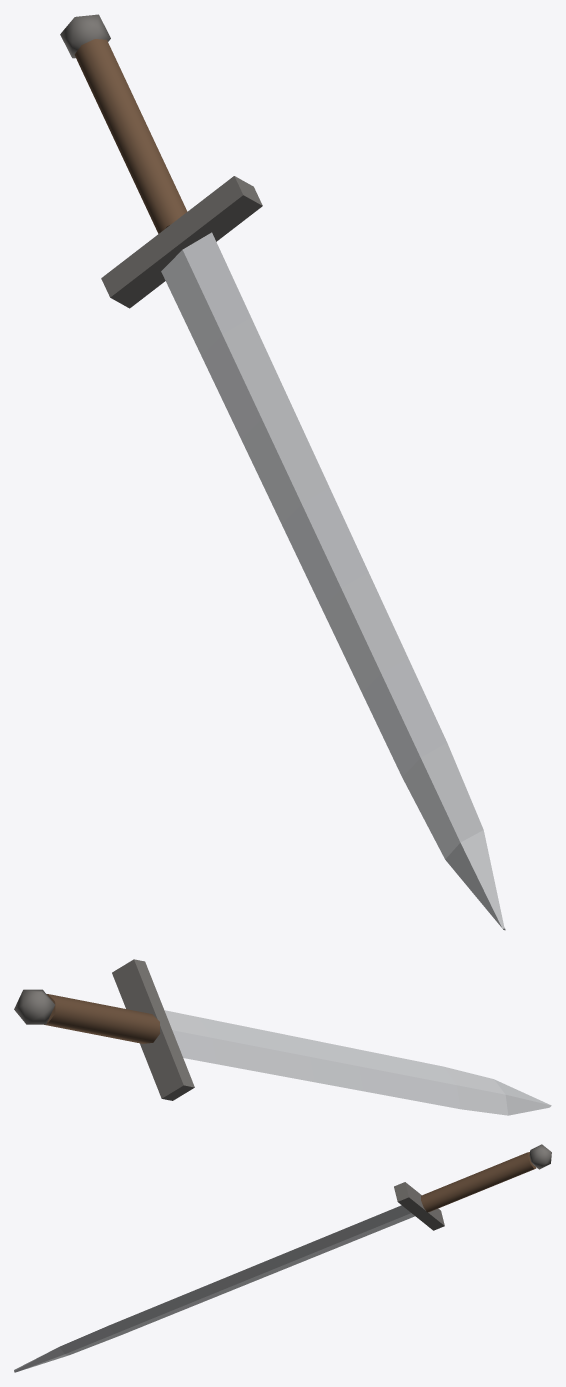
File: wpn_greatsword.glb
3 views of the same model, one above another, from view 1: azimuth 30°, elevation 25°; view 2: azimuth 150°, elevation 25°; view 3: azimuth 270°, elevation 25° (orthographic). The views are drawn at different scales.
Visible parts, largest first — view 1: wpn_greatsword; view 2: wpn_greatsword; view 3: wpn_greatsword.
Boxes of the visible parts, box(x1,y1,x2,y2) form: wpn_greatsword: box(60, 14, 505, 930); wpn_greatsword: box(14, 959, 551, 1115); wpn_greatsword: box(14, 1144, 551, 1372).
Bounding box in the file's own units: 0.1066 × 0.3463 × 0.6698.
